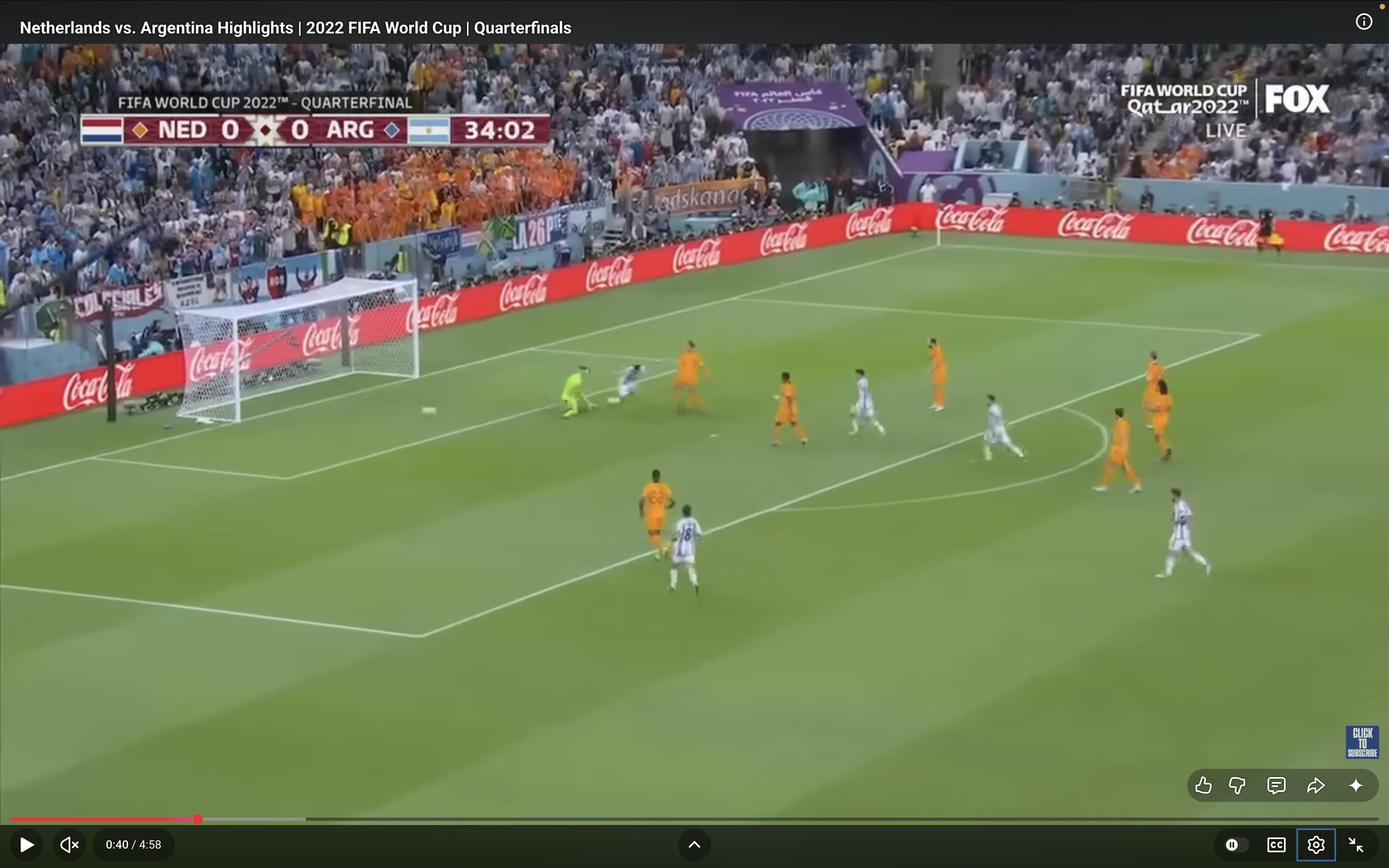ball: (422, 406, 437, 415), (608, 396, 621, 404), (849, 405, 857, 416)
player: (1156, 489, 1212, 578), (1095, 408, 1141, 493), (638, 470, 675, 559), (670, 504, 702, 597), (672, 341, 712, 410), (983, 396, 1025, 460), (772, 372, 807, 446), (850, 369, 885, 435), (1145, 379, 1172, 461), (1143, 351, 1165, 429), (561, 366, 594, 418), (928, 337, 948, 411), (608, 365, 645, 404)
referee: (1254, 206, 1285, 255)
